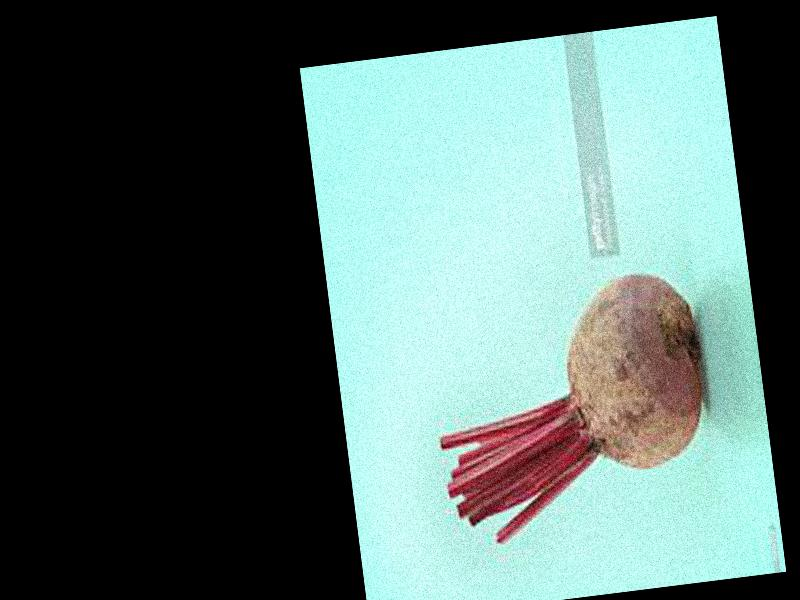Beet: (421, 267, 721, 547)
